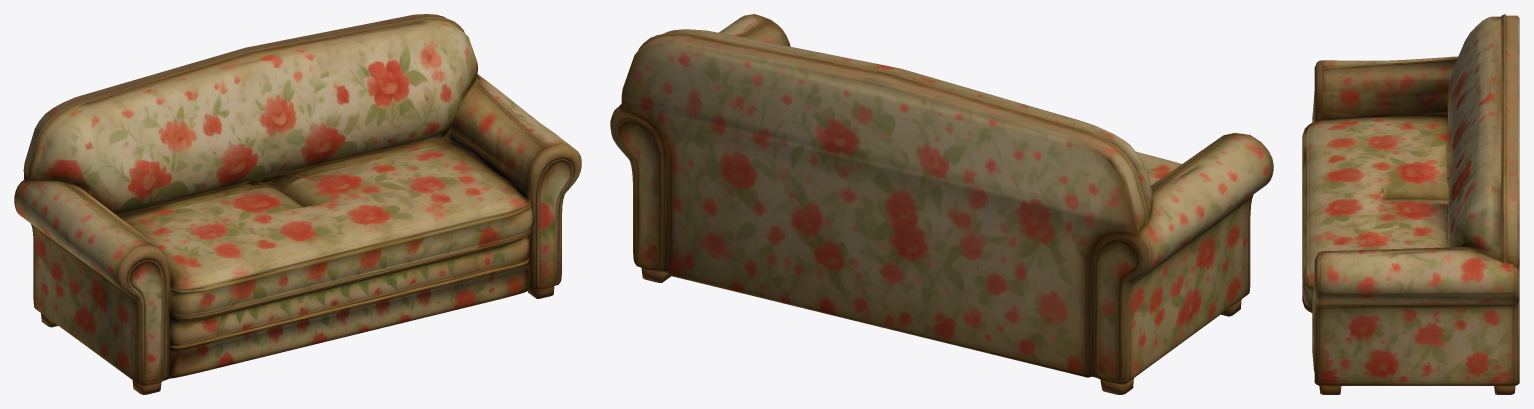
File: Furniture__old_cheap_couch_with_a_bad_floral_pattern_53278f1b_v3.cluster.glb
The picture shows the model from 3 angles, left to right: view 1: azimuth 30°, elevation 25°; view 2: azimuth 150°, elevation 25°; view 3: azimuth 270°, elevation 25°; orthographic projection. The views are drawn at different scales.
Parts seen in each view (by area): view 1: material; view 2: material; view 3: material.
Part boxes in pixels (left/top/right/bottom): material: left=14, top=14, right=581, bottom=394; material: left=610, top=14, right=1273, bottom=394; material: left=1302, top=14, right=1519, bottom=394.
Size of the model in its own units: 1.9 by 0.865 by 0.8104.
Materials: 1 (1 with a texture image).
